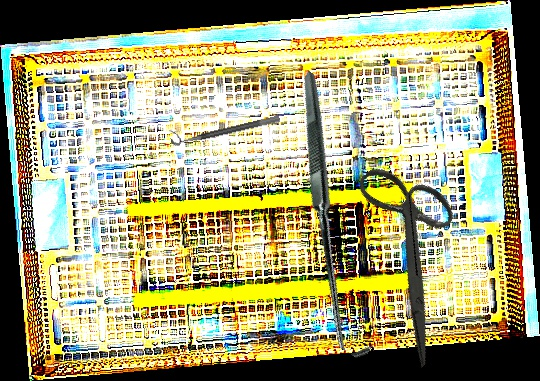Fixation Ring: (168, 105, 281, 148)
Hook Surgical: (191, 71, 480, 362)
Iris Scissors: (302, 144, 520, 369)
